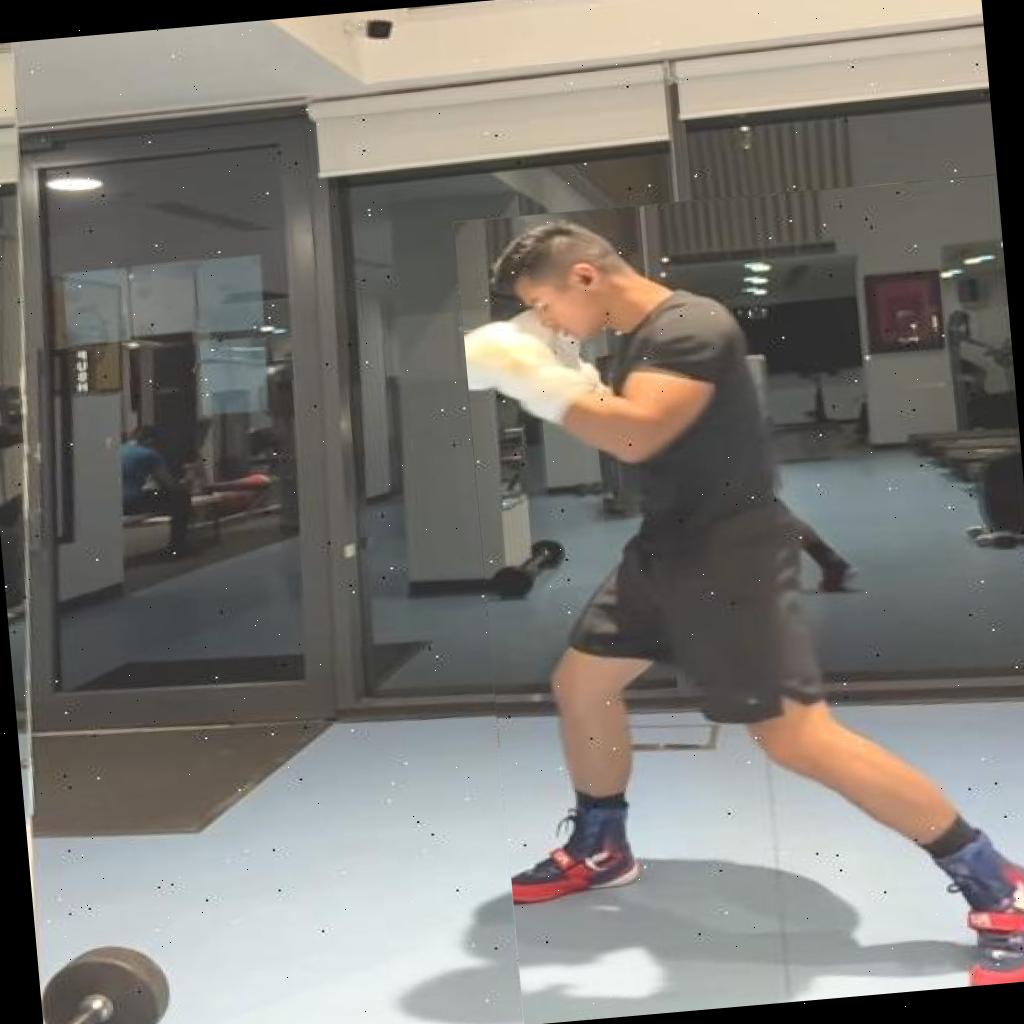no punch: (453, 173, 1024, 1024)
